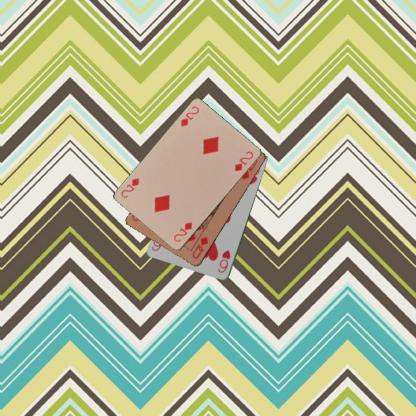2d: (171, 220, 194, 243), (178, 104, 200, 128)
6h: (216, 247, 232, 274)
Qd: (190, 234, 210, 260)
